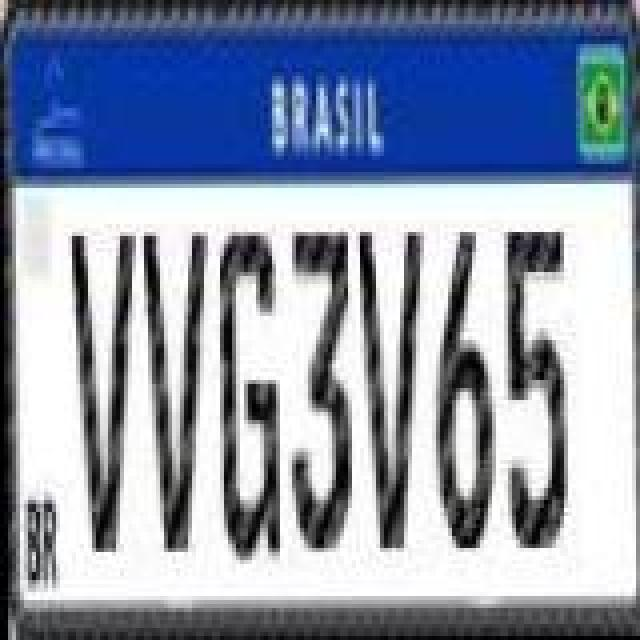3: (282, 224, 350, 548)
5: (498, 226, 566, 550)
6: (428, 224, 492, 548)
G: (214, 222, 282, 558)
V: (140, 228, 212, 552), (66, 230, 134, 554), (358, 224, 426, 548)
